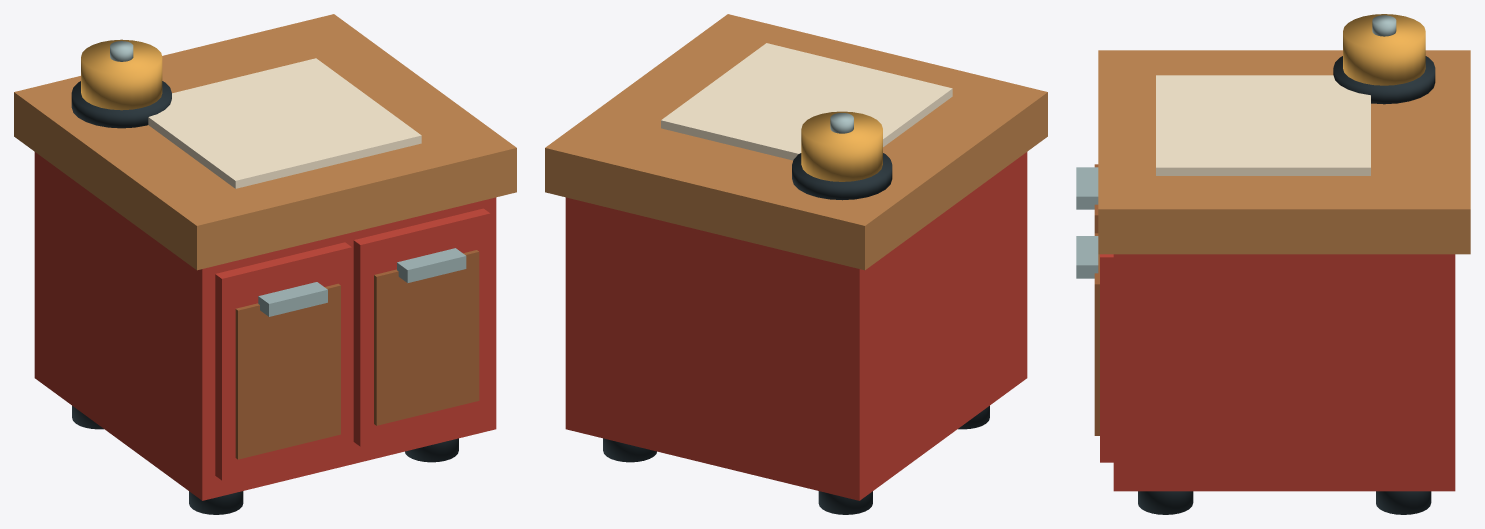
The picture shows the model from 3 angles, left to right: view 1: azimuth 30°, elevation 25°; view 2: azimuth 150°, elevation 25°; view 3: azimuth 270°, elevation 25°; orthographic projection.
Visible parts, largest first — view 1: Work surface.007, Powder coated carcase.007, Service pass mat, Recessed face.015, Recessed face.014, Inset cabinet door.015, Inset cabinet door.014, Brass service bell, Bell foot, Brushed pull.015, Brushed pull.014, Recessed leveling foot.028 (+1 smaller); view 2: Powder coated carcase.007, Work surface.007, Service pass mat, Brass service bell, Bell foot, Recessed leveling foot.029, Recessed leveling foot.031; view 3: Powder coated carcase.007, Work surface.007, Service pass mat, Brass service bell, Inset cabinet door.015, Bell foot, Recessed leveling foot.030, Recessed leveling foot.031, Recessed face.015, Brushed pull.014, Brushed pull.015, Bell button.
Boxes of the visible parts, left/top/right/bottom form: Work surface.007: left=14, top=14, right=516, bottom=270; Powder coated carcase.007: left=34, top=152, right=496, bottom=500; Service pass mat: left=148, top=58, right=421, bottom=188; Recessed face.015: left=374, top=250, right=479, bottom=425; Recessed face.014: left=235, top=283, right=340, bottom=459; Inset cabinet door.015: left=353, top=208, right=490, bottom=446; Inset cabinet door.014: left=215, top=242, right=351, bottom=480; Brass service bell: left=81, top=39, right=162, bottom=110; Bell foot: left=71, top=81, right=171, bottom=128; Brushed pull.015: left=397, top=248, right=466, bottom=282; Brushed pull.014: left=258, top=282, right=327, bottom=316; Recessed leveling foot.028: left=189, top=491, right=243, bottom=514; Powder coated carcase.007: left=565, top=152, right=1027, bottom=500; Work surface.007: left=545, top=14, right=1047, bottom=270; Service pass mat: left=661, top=43, right=952, bottom=160; Brass service bell: left=801, top=111, right=882, bottom=181; Bell foot: left=792, top=153, right=892, bottom=200; Recessed leveling foot.029: left=818, top=491, right=872, bottom=514; Recessed leveling foot.031: left=603, top=438, right=656, bottom=462; Powder coated carcase.007: left=1113, top=254, right=1455, bottom=491; Work surface.007: left=1098, top=50, right=1470, bottom=254; Service pass mat: left=1156, top=75, right=1370, bottom=175; Brass service bell: left=1343, top=14, right=1425, bottom=85; Inset cabinet door.015: left=1100, top=254, right=1113, bottom=462; Bell foot: left=1333, top=56, right=1435, bottom=104; Recessed leveling foot.030: left=1138, top=491, right=1193, bottom=514; Recessed leveling foot.031: left=1376, top=491, right=1431, bottom=514; Recessed face.015: left=1094, top=233, right=1099, bottom=435; Brushed pull.014: left=1076, top=167, right=1098, bottom=209; Brushed pull.015: left=1076, top=236, right=1098, bottom=278; Bell button: left=1372, top=15, right=1396, bottom=36.
Size of the model in its own units: 0.98 by 1.1 by 1.03.
